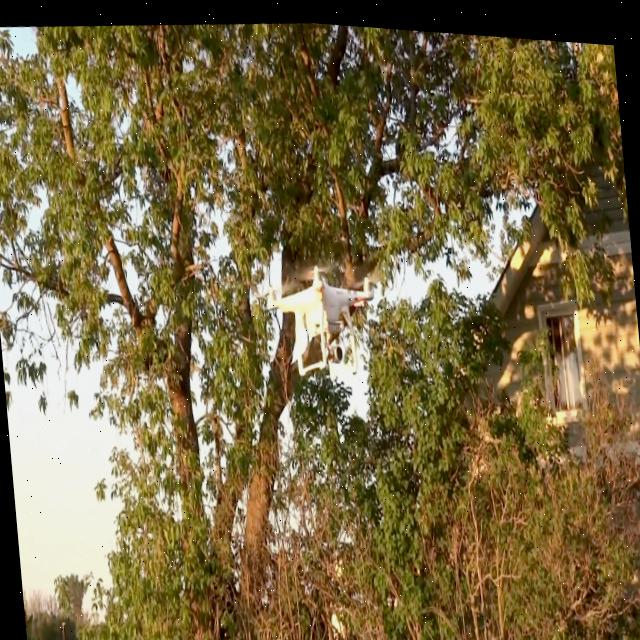drone: (257, 248, 386, 381)
